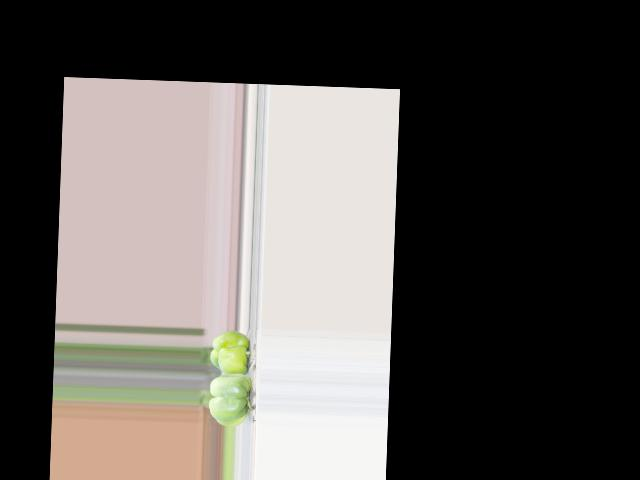bell_pepper: (208, 328, 253, 375)
